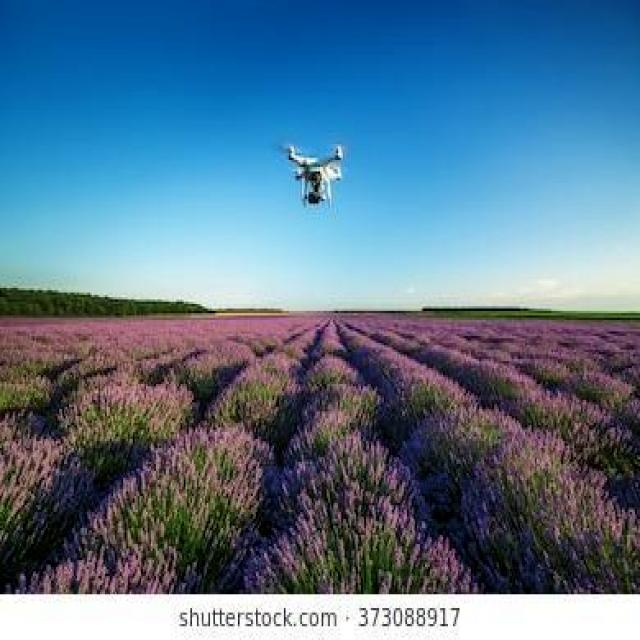drone: (280, 141, 347, 209)
